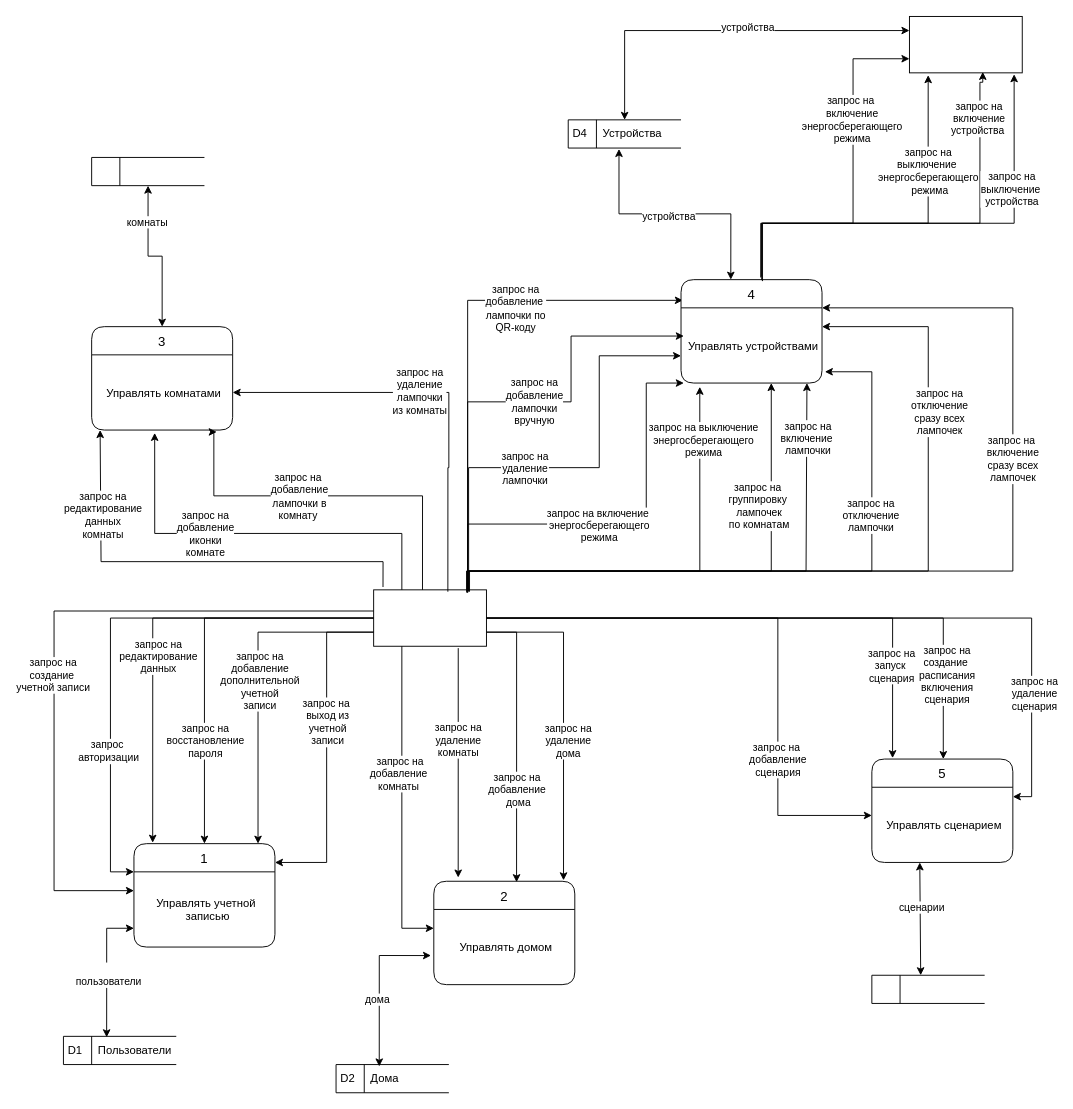
Some shapes in this 1073 by 1109 pixel diagram are drawn without their labels. The centre of each missing label's shape, as x and y in pixels:
D3 Комнаты: point (147, 171)
D5 Сценарии: point (928, 988)
Пользователь: point (429, 617)
Устройство: point (965, 44)
